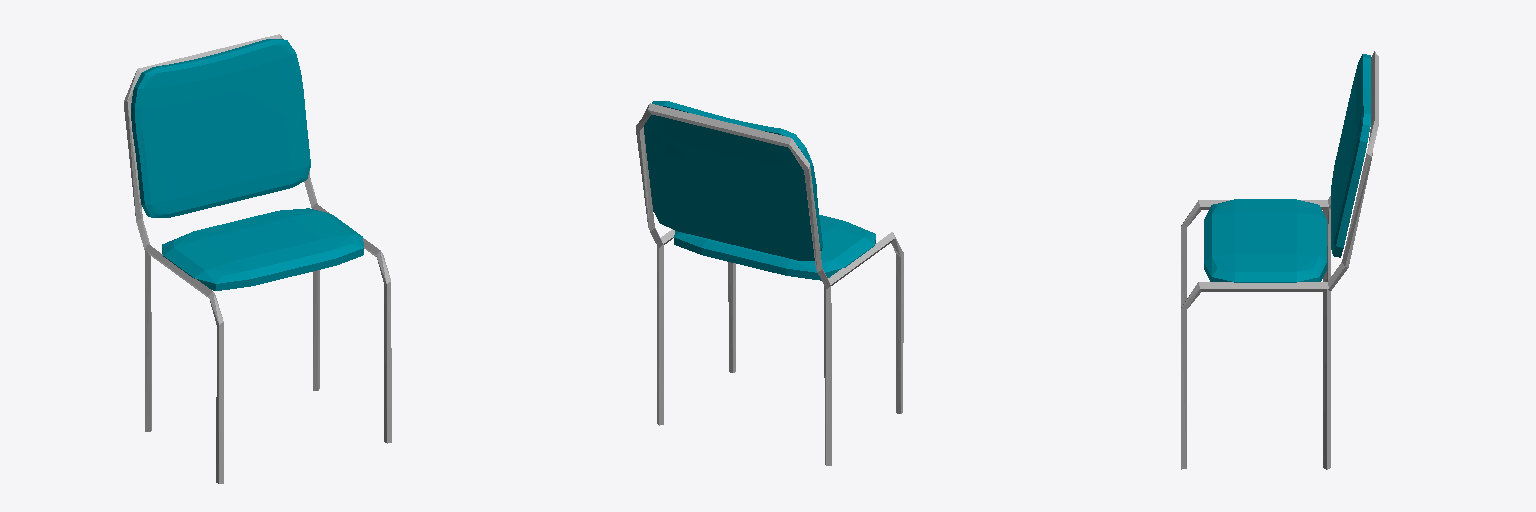
The model's file is cadeira2.obj.
The picture shows the model from 3 angles: view 1: azimuth 30°, elevation 25°; view 2: azimuth 150°, elevation 25°; view 3: azimuth 270°, elevation 25°; orthographic projection.
Visible parts, largest first — view 1: o_Mesh.002_Chair2.001_None, o_Mesh.002_Chair2_o_Mesh.002_Chair2; view 2: o_Mesh.002_Chair2.001_None, o_Mesh.002_Chair2_o_Mesh.002_Chair2; view 3: o_Mesh.002_Chair2.001_None, o_Mesh.002_Chair2_o_Mesh.002_Chair2.
Part boxes in pixels (x1,y1,x2,y2): o_Mesh.002_Chair2.001_None: (131, 39, 363, 290); o_Mesh.002_Chair2_o_Mesh.002_Chair2: (124, 34, 391, 483); o_Mesh.002_Chair2.001_None: (644, 101, 875, 280); o_Mesh.002_Chair2_o_Mesh.002_Chair2: (636, 103, 903, 465); o_Mesh.002_Chair2.001_None: (1204, 54, 1371, 282); o_Mesh.002_Chair2_o_Mesh.002_Chair2: (1181, 51, 1378, 469).
Size of the model in its own units: 40.93 by 76.84 by 40.15.